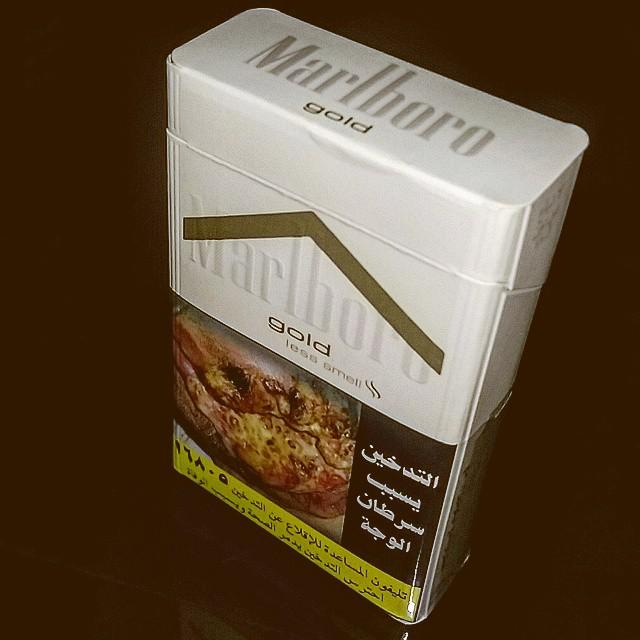marlboro_gold: (176, 140, 464, 488)
